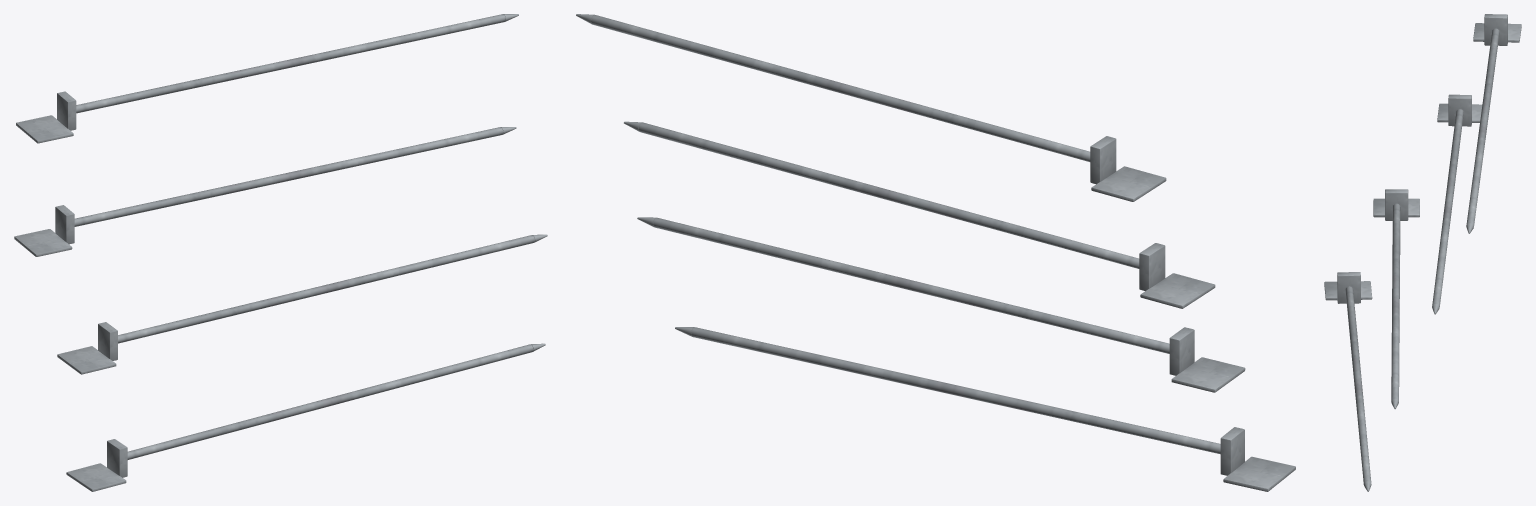
File: ELE-SPD-002_anim.glb
3 views of the same model, side by side, from view 1: azimuth 30°, elevation 25°; view 2: azimuth 150°, elevation 25°; view 3: azimuth 270°, elevation 25° (orthographic). The views are drawn at different scales.
Visible parts, largest first — view 1: ELE-SPD-002_anim3, ELE-SPD-002_anim2, ELE-SPD-002_anim1, ELE-SPD-002_anim0; view 2: ELE-SPD-002_anim0, ELE-SPD-002_anim1, ELE-SPD-002_anim2, ELE-SPD-002_anim3; view 3: ELE-SPD-002_anim1, ELE-SPD-002_anim0, ELE-SPD-002_anim3, ELE-SPD-002_anim2.
Part boxes in pixels (x1,y1,x2,y2): ELE-SPD-002_anim3: [16, 14, 518, 143]; ELE-SPD-002_anim2: [14, 127, 516, 256]; ELE-SPD-002_anim1: [57, 234, 547, 374]; ELE-SPD-002_anim0: [66, 343, 545, 491]; ELE-SPD-002_anim0: [675, 327, 1295, 491]; ELE-SPD-002_anim1: [637, 217, 1245, 392]; ELE-SPD-002_anim2: [624, 121, 1215, 308]; ELE-SPD-002_anim3: [576, 14, 1166, 201]; ELE-SPD-002_anim1: [1373, 189, 1419, 409]; ELE-SPD-002_anim0: [1324, 272, 1372, 491]; ELE-SPD-002_anim3: [1466, 14, 1521, 233]; ELE-SPD-002_anim2: [1432, 94, 1482, 314].
Bounding box in the file's own units: 0.713 × 0.424 × 0.2544.
1 material, 1 textured.
